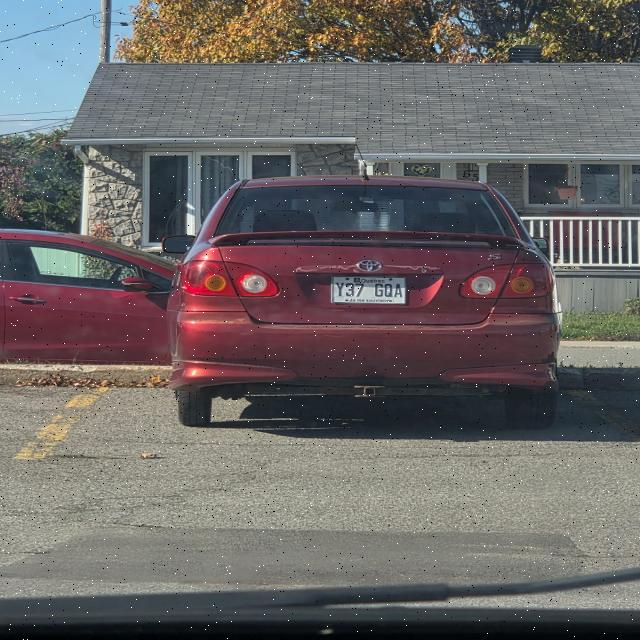plaque: (332, 276, 406, 304)
